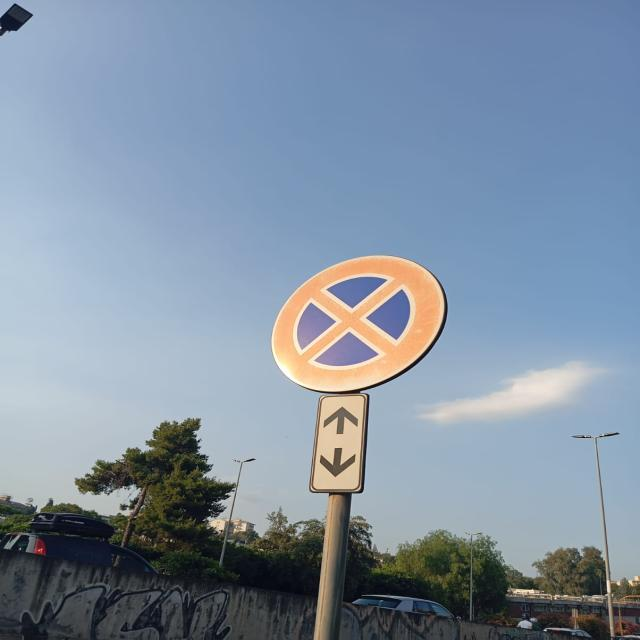forb_stopping: (270, 254, 449, 393)
